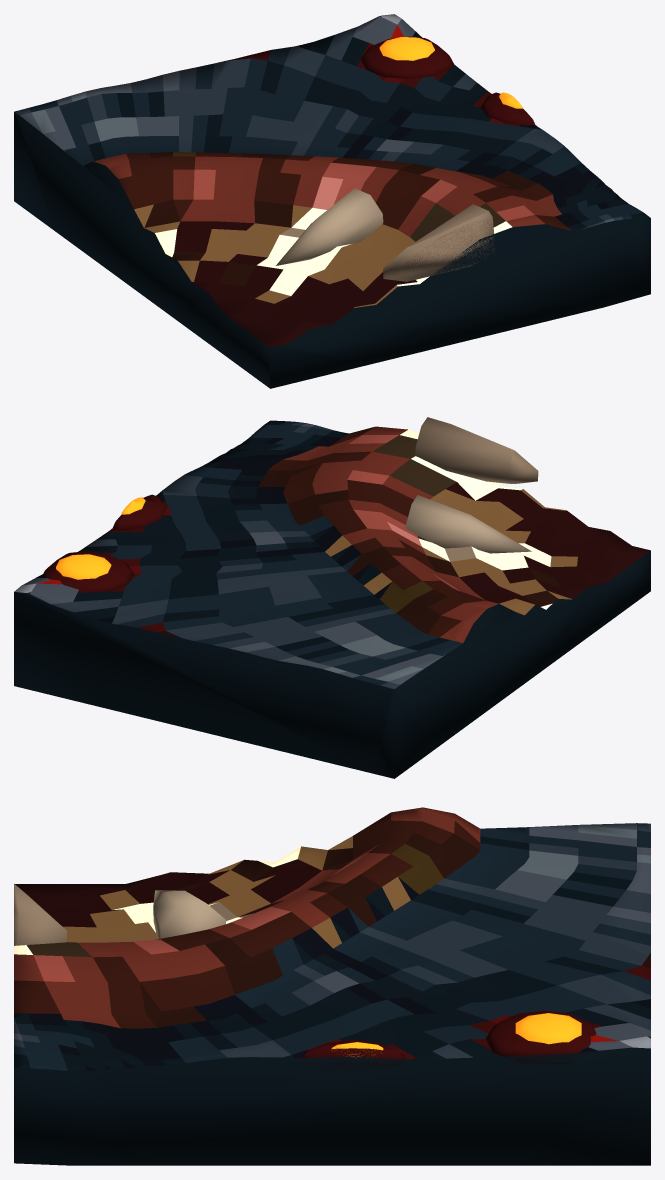
File: newshn-121.glb
3 views of the same model, one above another, from view 1: azimuth 30°, elevation 25°; view 2: azimuth 150°, elevation 25°; view 3: azimuth 270°, elevation 25° (orthographic). The views are drawn at different scales.
Parts seen in each view (by area): view 1: newshn-121, newshn-121-f121, newshn-121-f231, newshn-121-f239, newshn-121-f235; view 2: newshn-121, newshn-121-f121; view 3: newshn-121, newshn-121-f121.
Part boxes in pixels (box(x1,y1,x2,y2)): newshn-121: box(14, 14, 650, 388); newshn-121-f121: box(276, 188, 493, 281); newshn-121-f231: box(386, 217, 493, 278); newshn-121-f239: box(405, 219, 493, 271); newshn-121-f235: box(398, 217, 492, 273); newshn-121: box(14, 420, 650, 778); newshn-121-f121: box(405, 417, 538, 553); newshn-121: box(14, 807, 650, 1165); newshn-121-f121: box(14, 884, 225, 945).
Bounding box in the file's own units: 2 × 0.6135 × 2.33.
